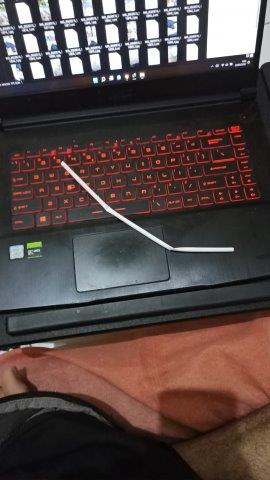sedotan: (61, 161, 234, 252)
